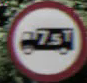Heavy Vehicles: (9, 4, 80, 75)
